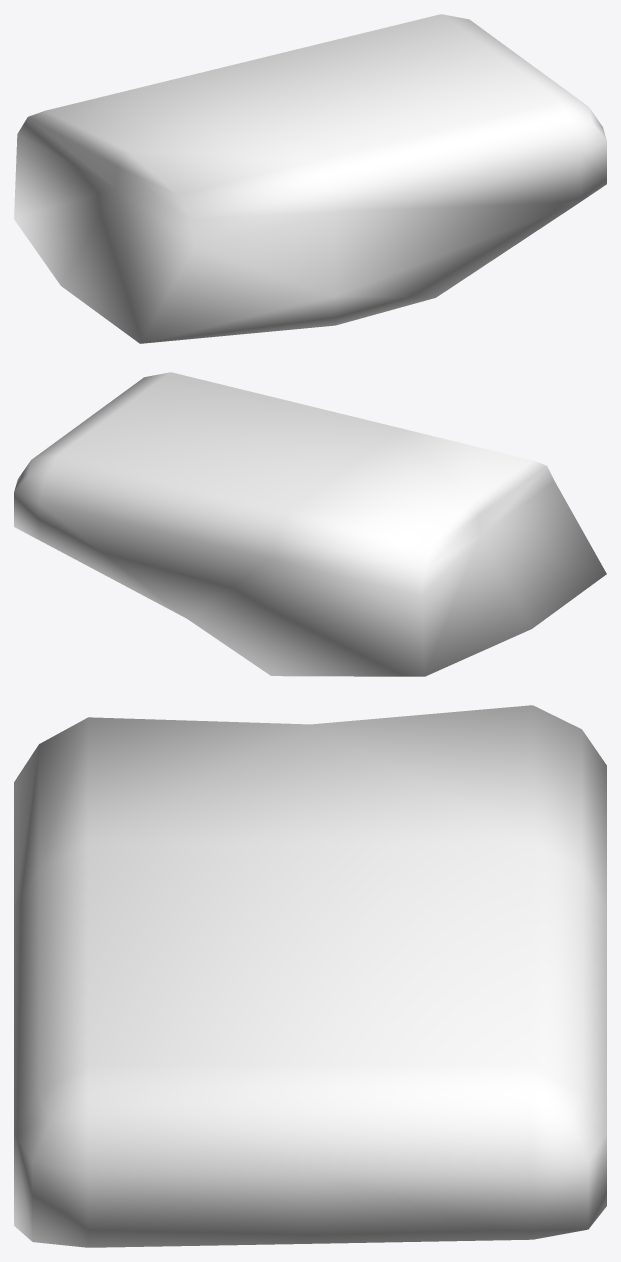
Rendered from WhiteBrickBreak2.obj.
3 renders of one model, top to bottom at view 1: azimuth 30°, elevation 25°; view 2: azimuth 150°, elevation 25°; view 3: azimuth 270°, elevation 25°, orthographic. The views are drawn at different scales.
Parts seen in each view (by area): view 1: OriginalBrick.011_Cube.020; view 2: OriginalBrick.011_Cube.020; view 3: OriginalBrick.011_Cube.020.
Boxes of the visible parts, x1,y1,x2,y2 form: OriginalBrick.011_Cube.020: (14, 14, 606, 343); OriginalBrick.011_Cube.020: (14, 372, 606, 676); OriginalBrick.011_Cube.020: (14, 705, 606, 1247).
Size of the model in its own units: 0.7557 by 0.2381 by 0.4316.
Materials: 2 (2 with a texture image).
